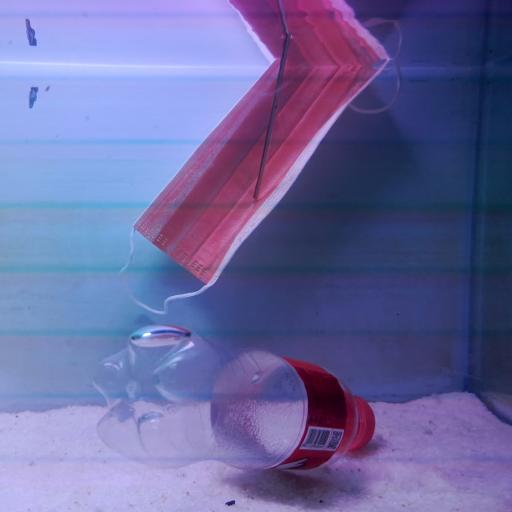bottle_cap: (344, 390, 377, 454)
mask: (124, 61, 386, 297)
plastic_bottle: (100, 315, 390, 473)
